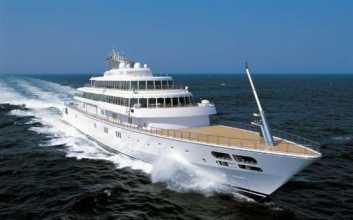yacht: (66, 41, 322, 192)
